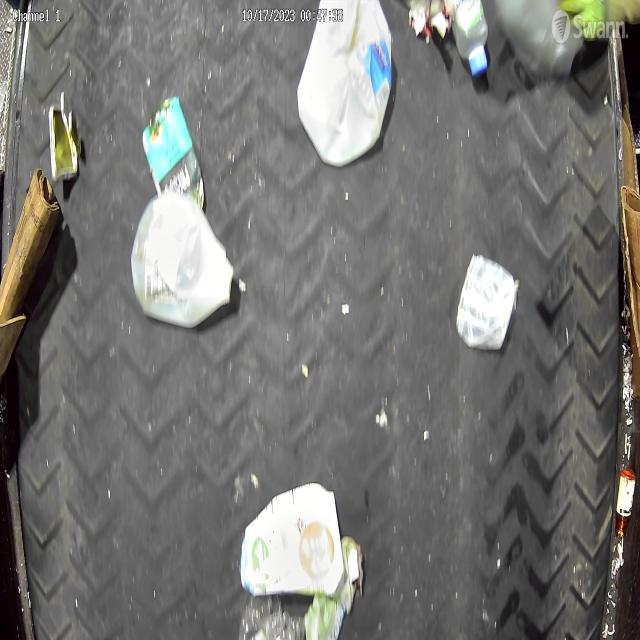milk_jug: (298, 0, 396, 166), (130, 194, 237, 327)
non_white_jug: (238, 485, 341, 599)
plastic_bottle: (443, 0, 491, 78)
